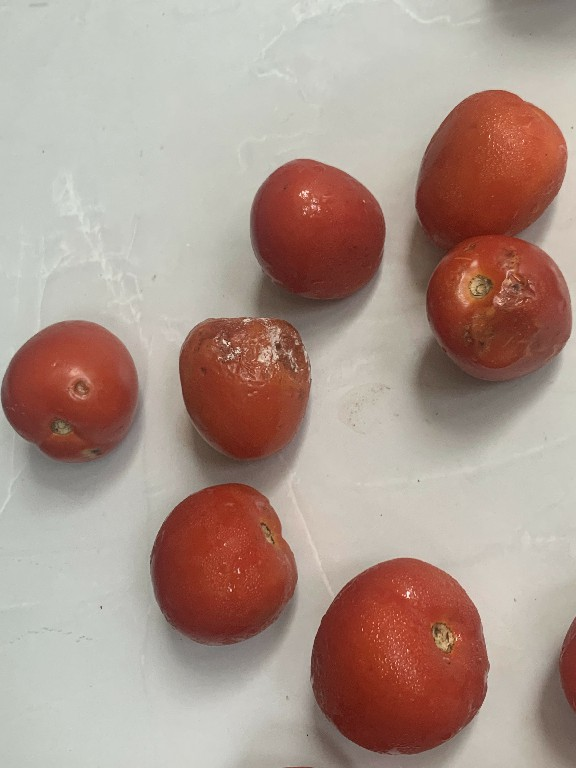NG: (0, 301, 148, 470), (421, 221, 572, 386), (167, 305, 319, 465)
OK: (294, 539, 510, 759), (143, 477, 315, 655), (406, 73, 572, 244), (227, 144, 390, 312)
